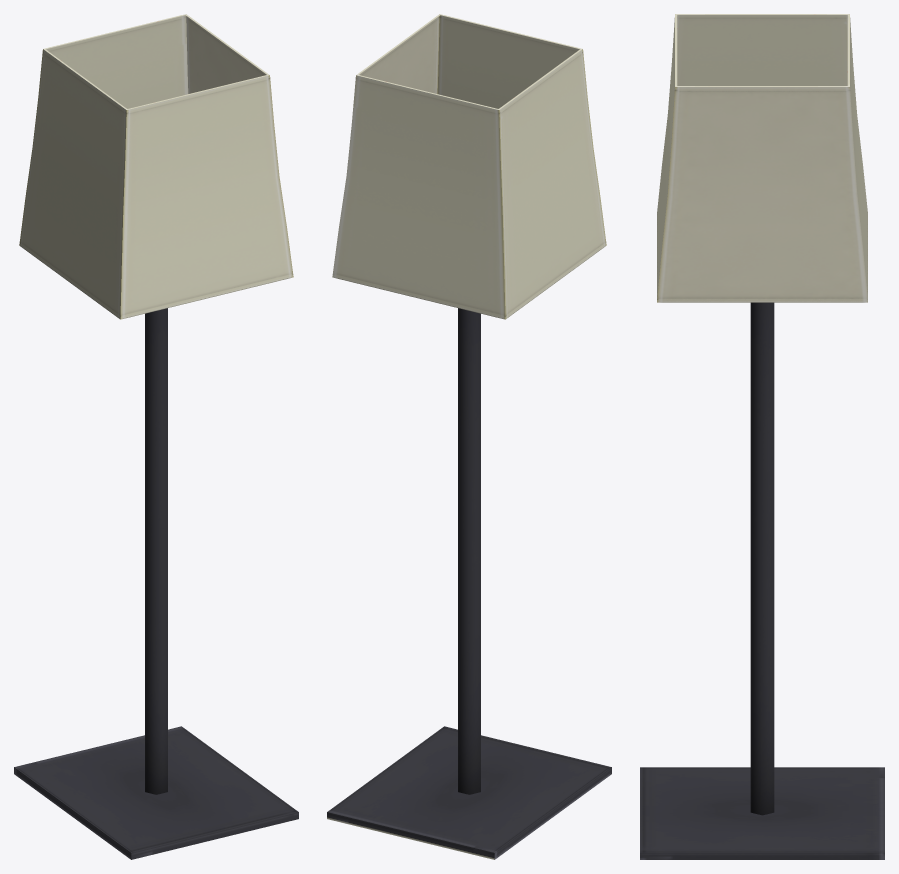
Rendered from Light01B.FBX.
The picture shows the model from 3 angles, left to right: view 1: azimuth 30°, elevation 25°; view 2: azimuth 150°, elevation 25°; view 3: azimuth 270°, elevation 25°; orthographic projection. The views are drawn at different scales.
Parts seen in each view (by area): view 1: Light01B; view 2: Light01B; view 3: Light01B.
Boxes of the visible parts, x1=… form: Light01B: x1=14, y1=14, x2=298, y2=859; Light01B: x1=327, y1=14, x2=611, y2=859; Light01B: x1=640, y1=14, x2=884, y2=859.
Size of the model in its own units: 40.59 by 47.57 by 164.
